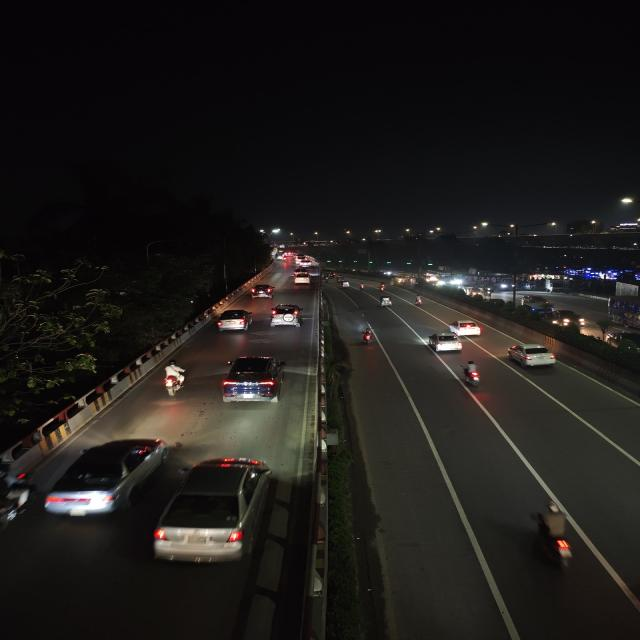bus: (606, 295, 640, 332), (426, 270, 459, 286), (493, 274, 516, 292)
car: (149, 454, 282, 570), (41, 433, 176, 522), (216, 354, 290, 410), (505, 341, 560, 371), (214, 308, 254, 334), (425, 330, 463, 356), (267, 303, 305, 329), (548, 308, 587, 329), (448, 317, 484, 337), (248, 284, 277, 300), (292, 271, 312, 283), (294, 264, 311, 274), (295, 256, 311, 266)
cng: (376, 292, 394, 310), (522, 280, 542, 293)
motorcycle: (525, 506, 580, 578), (157, 360, 190, 400), (459, 359, 485, 390), (358, 328, 375, 346), (412, 294, 426, 306), (376, 282, 386, 292)
truck: (544, 278, 568, 294)
